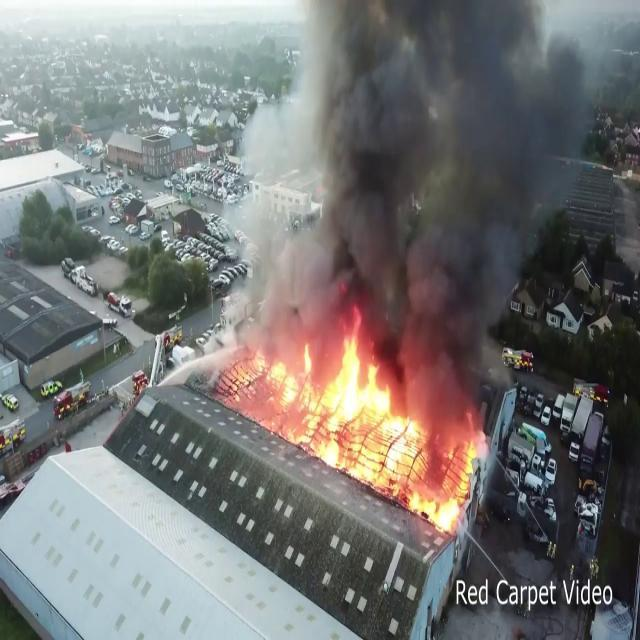Fire: (227, 328, 478, 526)
Smoke: (212, 0, 604, 368)
